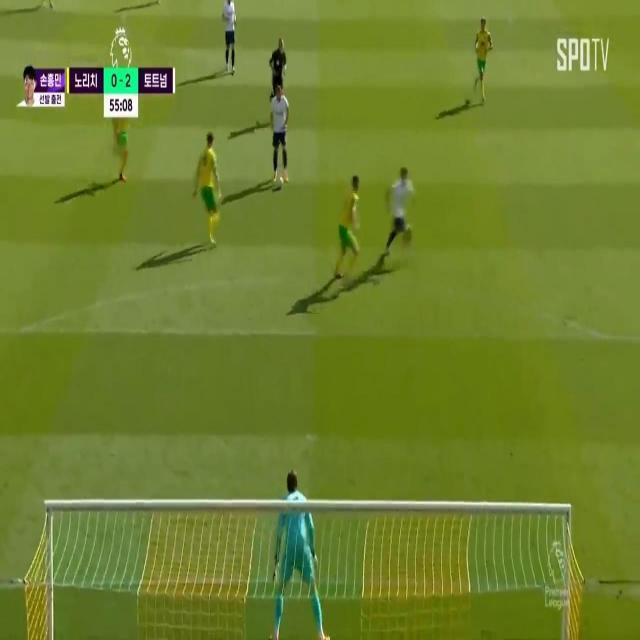ball: (276, 176, 288, 189)
goalkeeper: (265, 454, 335, 640)
player: (199, 136, 219, 236), (271, 80, 291, 173), (392, 164, 410, 253), (346, 168, 360, 282), (219, 0, 239, 70), (476, 20, 491, 100), (112, 89, 126, 173)
referee: (268, 35, 288, 99)
